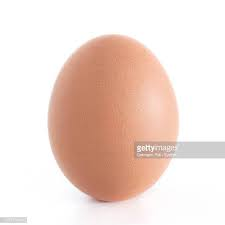egg: (48, 34, 179, 198)
